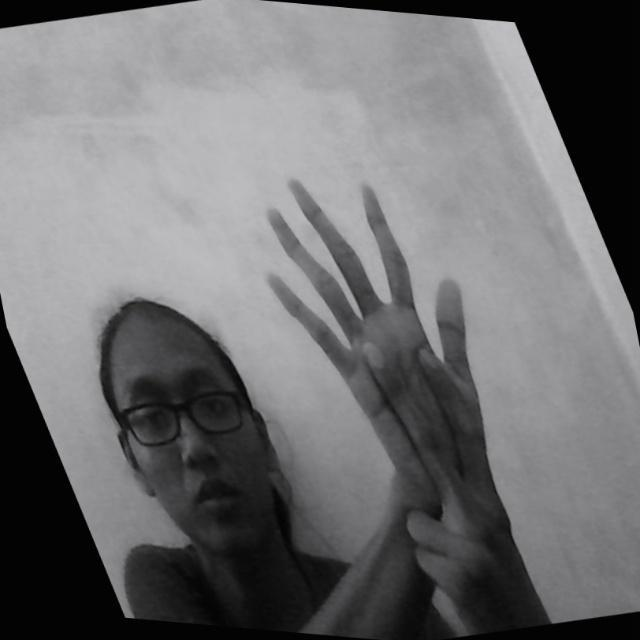N: (255, 159, 514, 533)
